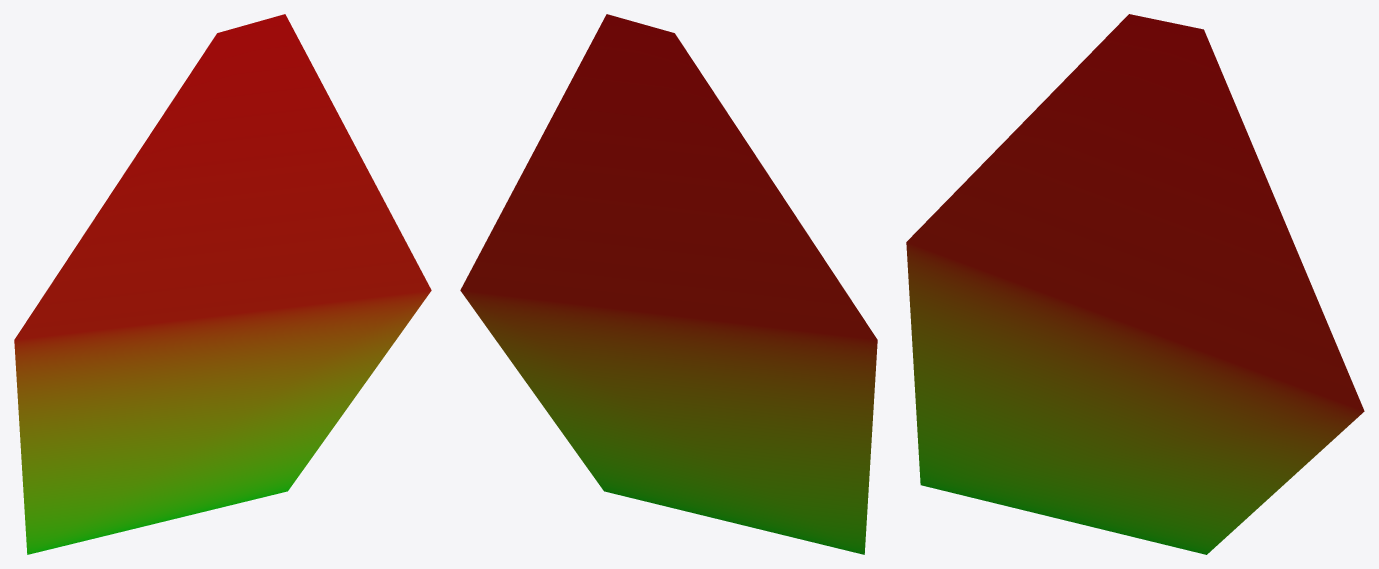
File: Var3_LOD4.fbx
3 views of the same model, side by side, from view 1: azimuth 30°, elevation 25°; view 2: azimuth 150°, elevation 25°; view 3: azimuth 330°, elevation 25° (orthographic). The views are drawn at different scales.
Visible parts, largest first — view 1: _2958_Var3_LOD4; view 2: _2958_Var3_LOD4; view 3: _2958_Var3_LOD4.
Part boxes in pixels (box(x1,y1,x2,y2)): _2958_Var3_LOD4: box(14, 14, 431, 554); _2958_Var3_LOD4: box(460, 14, 877, 554); _2958_Var3_LOD4: box(906, 14, 1364, 554).
Bounding box in the file's own units: 35.8 × 39.17 × 1.43e-06.
